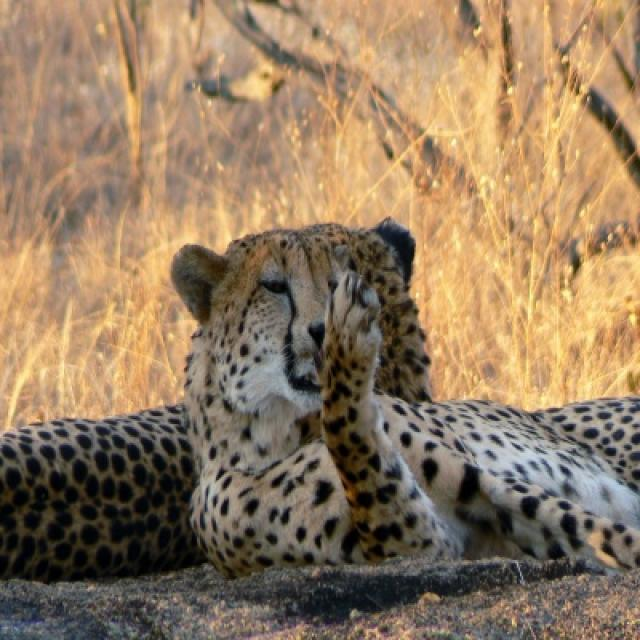Cheetah: (173, 219, 638, 576)
